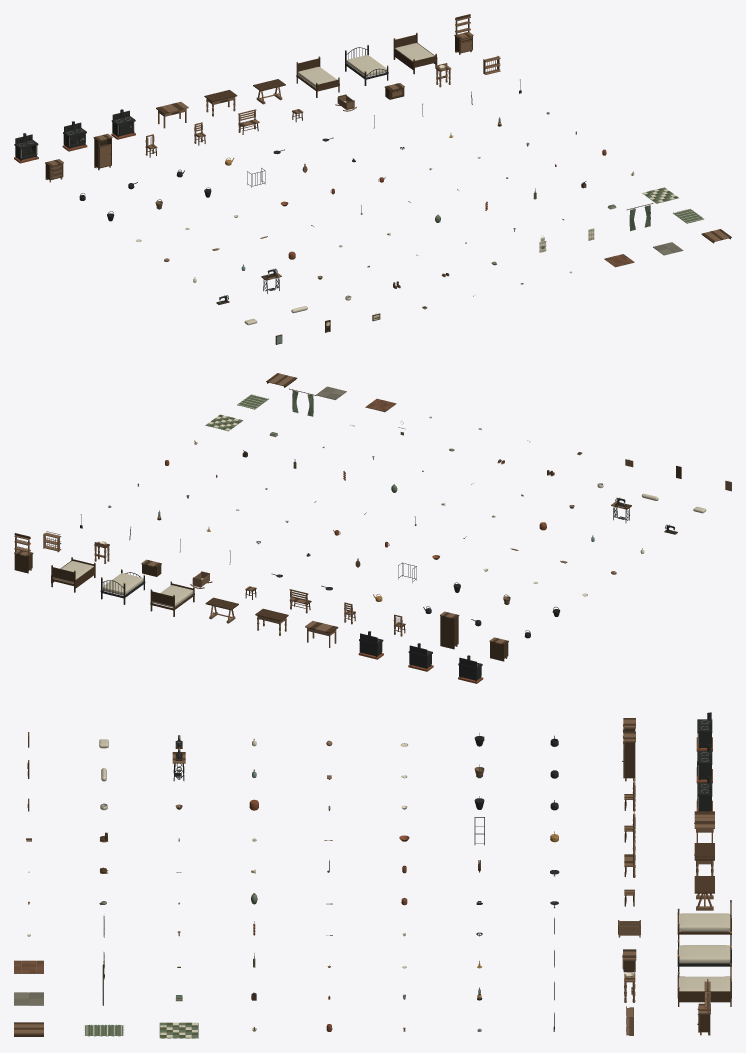
Rendered from catalogue.glb.
The picture shows the model from 3 angles, top to bottom: view 1: azimuth 30°, elevation 25°; view 2: azimuth 150°, elevation 25°; view 3: azimuth 270°, elevation 25°; orthographic projection. The views are drawn at different scales.
Visible parts, largest first — view 1: box-bed, rope-bed, iron-bed, food-cupboard, hob-stove, open-range, oven-range, dresser; view 2: box-bed, rope-bed, iron-bed, food-cupboard, dresser, oven-range, hob-stove, open-range; view 3: box-bed, rope-bed, iron-bed, patchwork-quilt, food-cupboard, trestle-table, dresser, open-range, oven-range.
Boxes of the visible parts, x1,y1,x2,y2 form: box-bed: (393, 32, 437, 74); rope-bed: (296, 56, 339, 97); iron-bed: (345, 44, 388, 85); food-cupboard: (93, 133, 112, 170); hob-stove: (111, 109, 135, 139); open-range: (14, 133, 38, 163); oven-range: (62, 121, 87, 151); dresser: (454, 14, 473, 54); box-bed: (51, 557, 95, 592); rope-bed: (150, 581, 194, 616); iron-bed: (100, 569, 145, 604); food-cupboard: (440, 611, 459, 649); dresser: (14, 533, 33, 573); oven-range: (408, 643, 433, 671); hob-stove: (358, 631, 383, 659); open-range: (458, 655, 483, 683); box-bed: (677, 963, 731, 1006); rope-bed: (677, 900, 731, 940); iron-bed: (677, 931, 731, 971); patchwork-quilt: (159, 1022, 198, 1038); food-cupboard: (622, 731, 635, 781); trestle-table: (694, 876, 714, 910); dresser: (697, 979, 710, 1035); open-range: (696, 712, 712, 751); oven-range: (696, 744, 712, 783).
Size of the model in its own units: 23.58 by 1.74 by 23.9.
